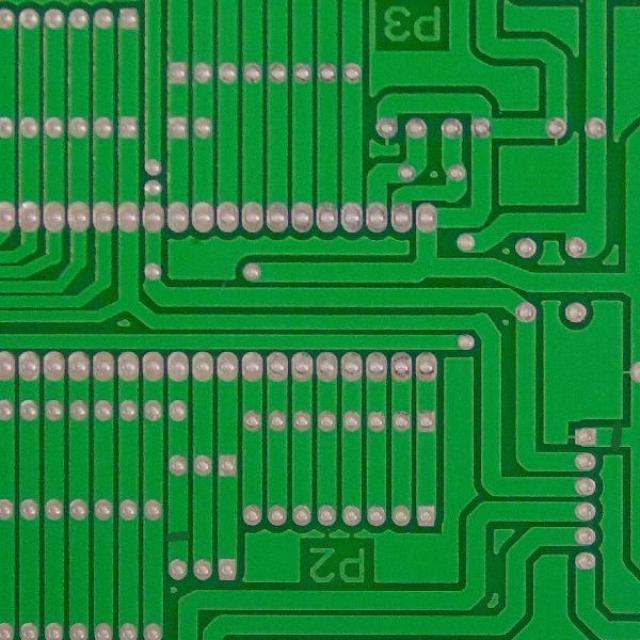Open_Circuit: (604, 412, 628, 462), (159, 526, 196, 548)
